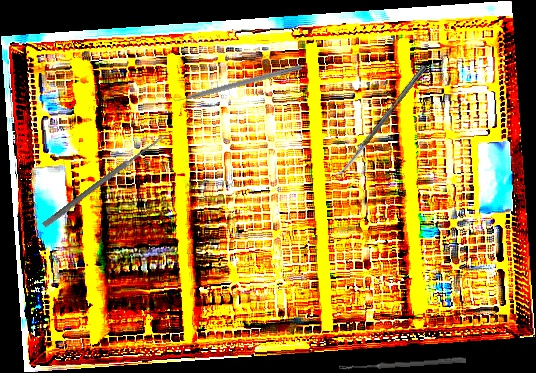Chopper: (164, 57, 303, 106)
Surgical Spoon: (42, 132, 167, 229), (334, 63, 428, 181), (338, 356, 467, 372)
